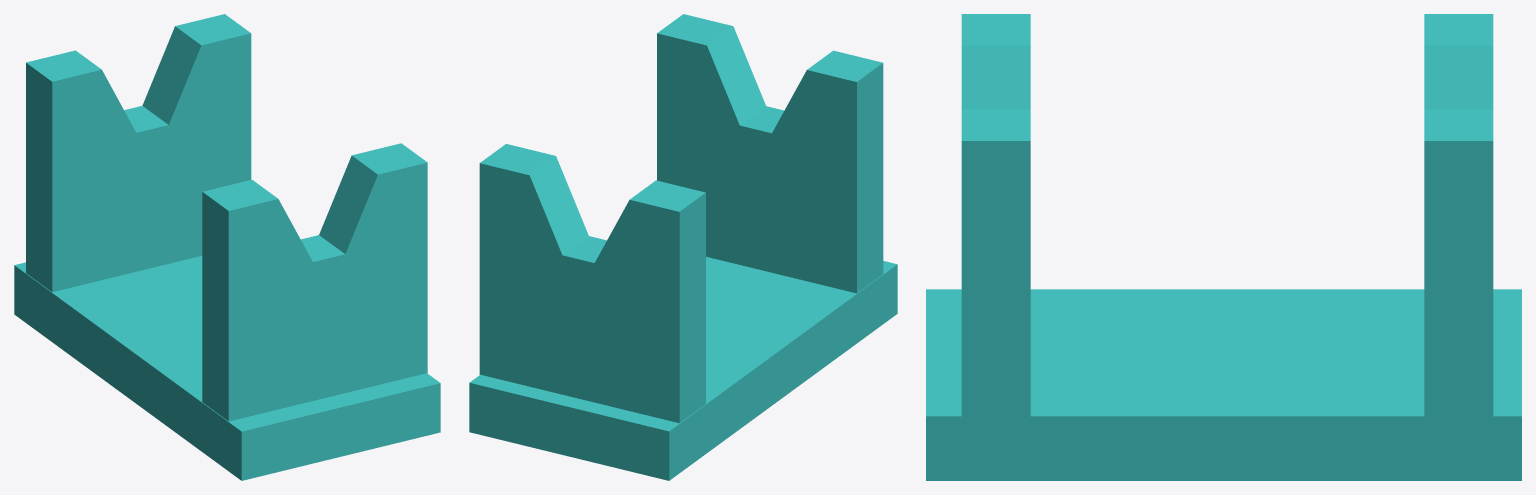
File: Seesaw_part2.fbx
3 renders of one model, left to right at view 1: azimuth 30°, elevation 25°; view 2: azimuth 150°, elevation 25°; view 3: azimuth 270°, elevation 25°, orthographic. The views are drawn at different scales.
Parts seen in each view (by area): view 1: Buttom; view 2: Buttom; view 3: Buttom.
Boxes of the visible parts, x1,y1,x2,y2 form: Buttom: (14, 14, 440, 480); Buttom: (469, 14, 897, 480); Buttom: (926, 14, 1521, 480).
Size of the model in its own units: 201 by 250 by 396.
